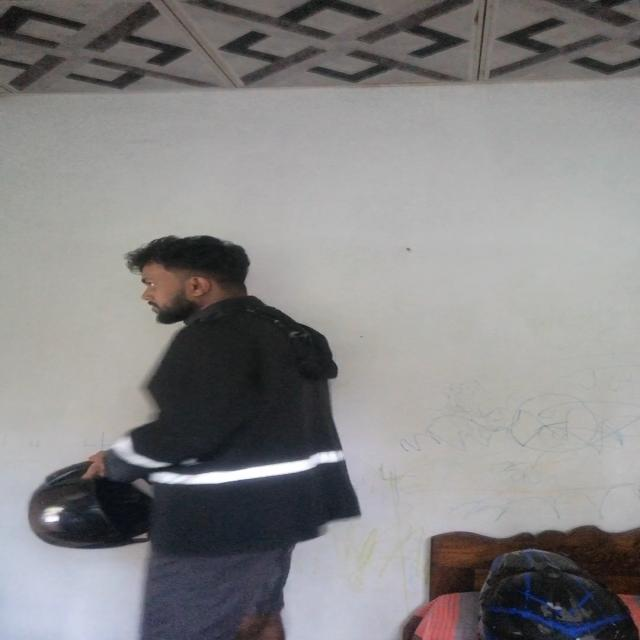Jacket_Wearer: (122, 299, 390, 542)
Person: (92, 223, 392, 640)
